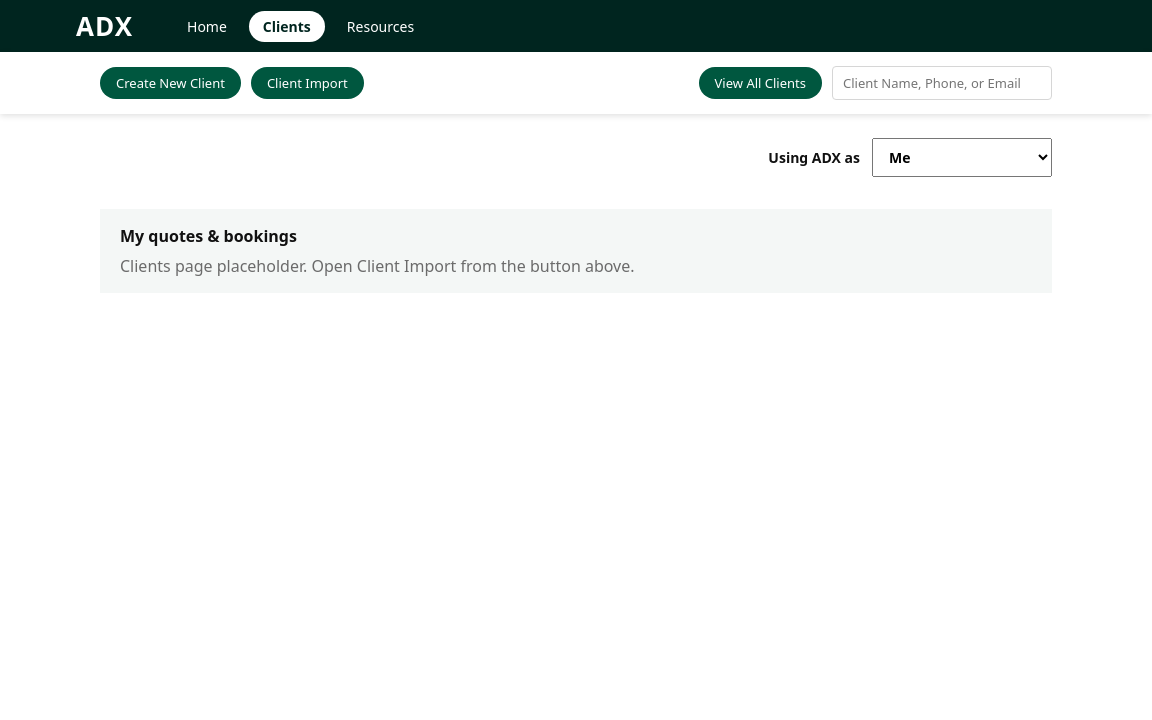
Test case: choosing an Advisor › shows name, email and office for each result
Click the button "Client Import" at x=307, y=83, box [251, 67, 364, 99]
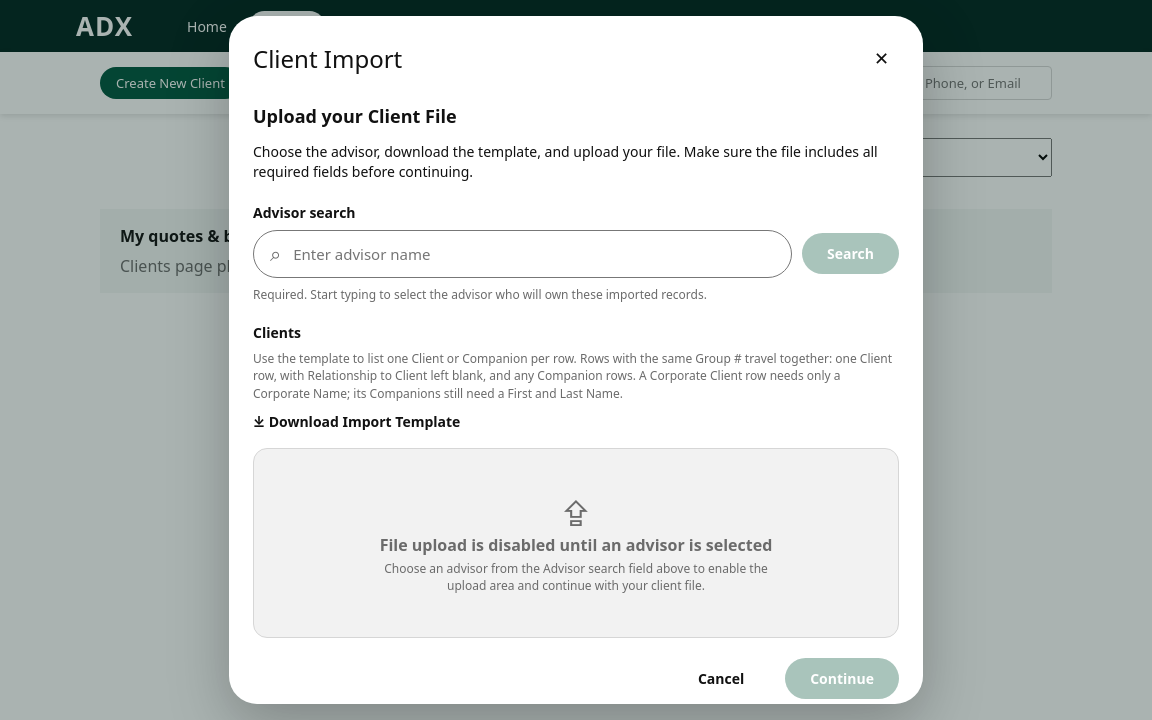
Type "sarah" into the dropdown labelled "Advisor search" at x=535, y=254, box [291, 243, 779, 265]
Wait 300 ms
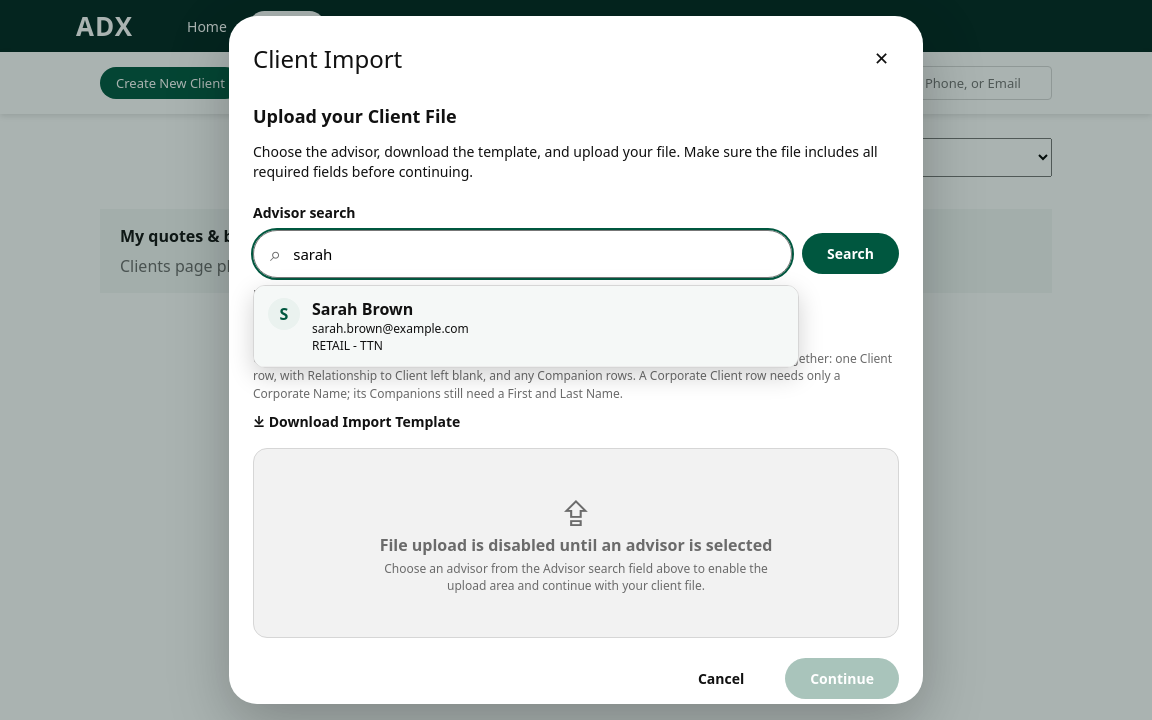
Check: the option "S Sarah Brown sarah.brown@example.com RETAIL - TTN" is shown, box [254, 286, 798, 367]
